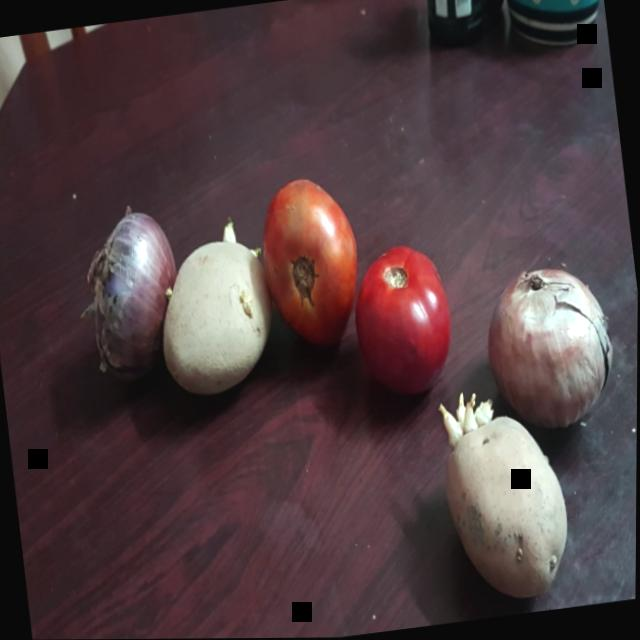onion: (465, 248, 632, 441), (66, 202, 194, 387)
potato: (417, 399, 589, 613), (148, 218, 288, 407)
tomato: (245, 156, 379, 369), (343, 236, 466, 403)
